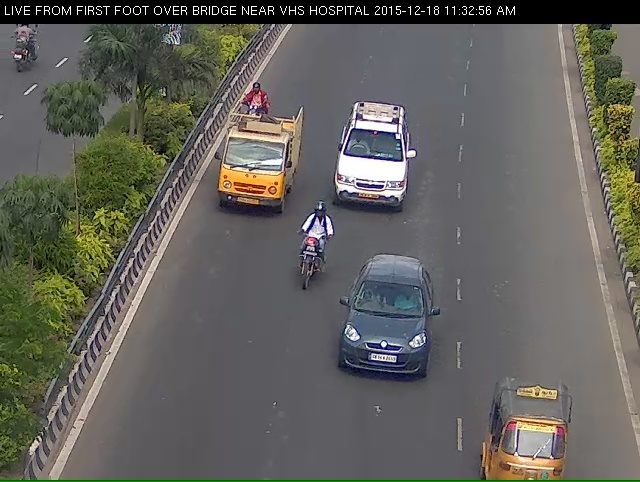Auto: (482, 400, 590, 482), (216, 112, 284, 230)
Car: (327, 270, 443, 414), (321, 101, 433, 240)
Person: (292, 221, 320, 323), (229, 94, 265, 135)
